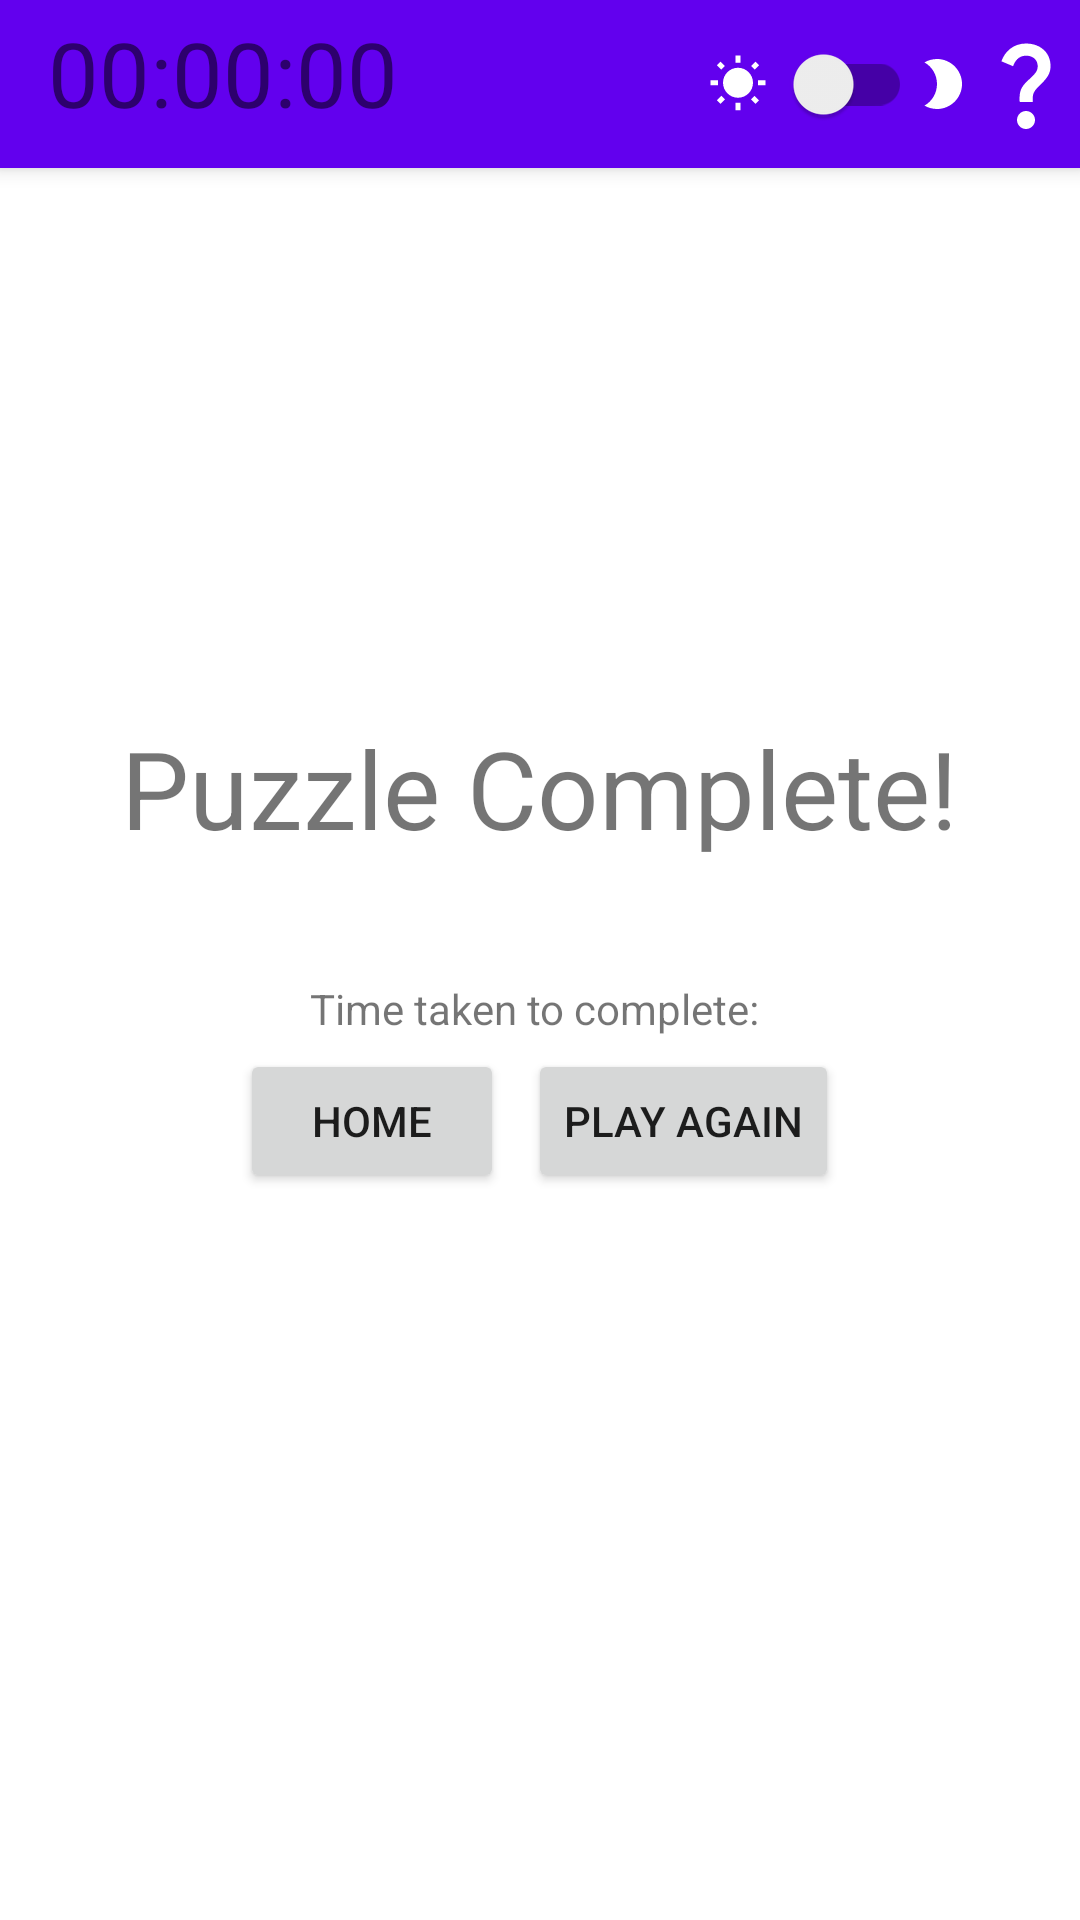

Where icons sit on this 1080px x 1920px app screen, as [x1=x1, y1=y1, x2=x2, y2=y2]:
question mark: [x1=1001, y1=43, x2=1051, y2=129]
sunny: [x1=710, y1=55, x2=766, y2=111]
